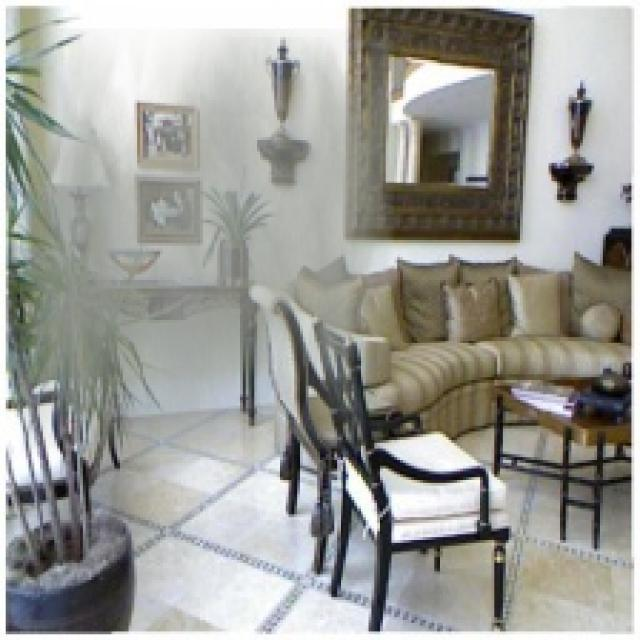Smoke: (19, 28, 394, 454)
